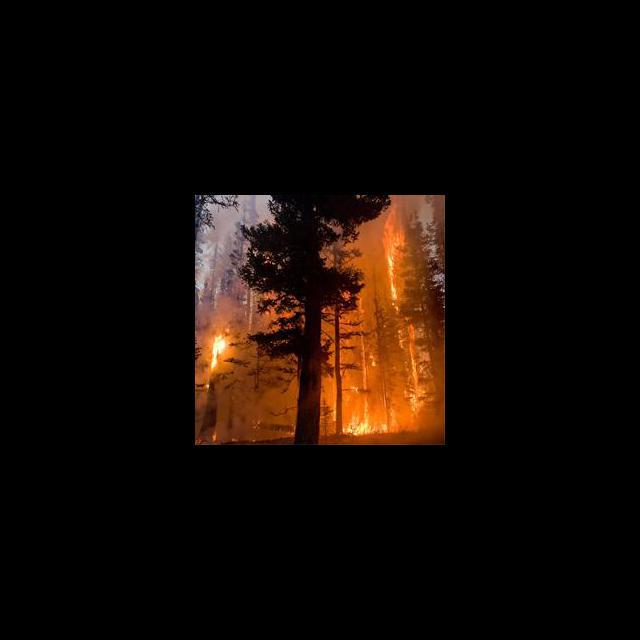Fire: (398, 327, 432, 413), (379, 203, 409, 300), (344, 411, 396, 438), (207, 332, 228, 372)
